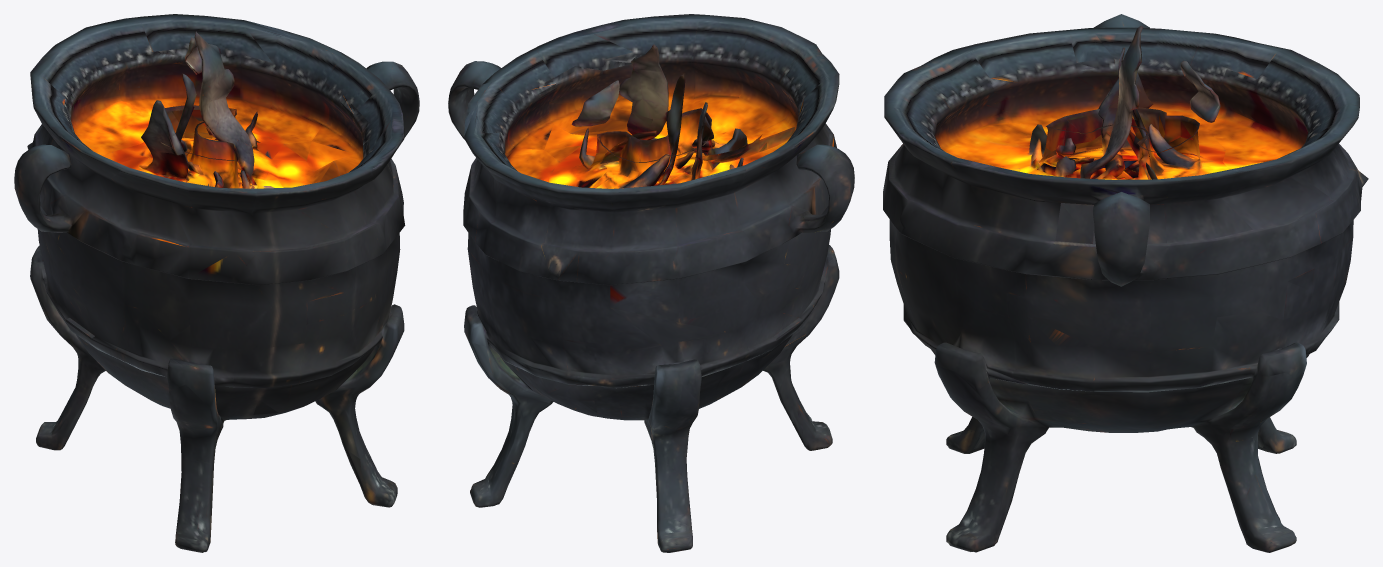
Rendered from briarhold-fire-pot-512.glb.
3 views of the same model, side by side, from view 1: azimuth 30°, elevation 25°; view 2: azimuth 150°, elevation 25°; view 3: azimuth 270°, elevation 25° (orthographic). The views are drawn at different scales.
Visible parts, largest first — view 1: briarhold-fire-pot; view 2: briarhold-fire-pot; view 3: briarhold-fire-pot.
Boxes of the visible parts, x1,y1,x2,y2 form: briarhold-fire-pot: (14,14,419,552); briarhold-fire-pot: (448,14,854,552); briarhold-fire-pot: (883,14,1368,552).
Bounding box in the file's own units: 1.7 × 1.8 × 1.7.
1 material, 1 textured.
